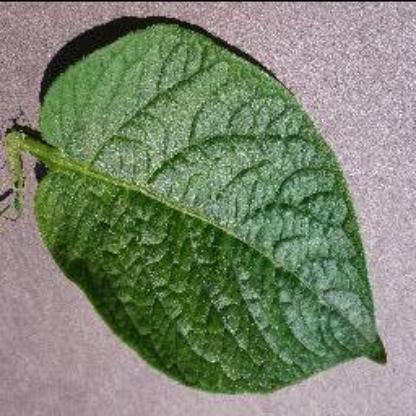Healthy-plant: (16, 14, 396, 382)
